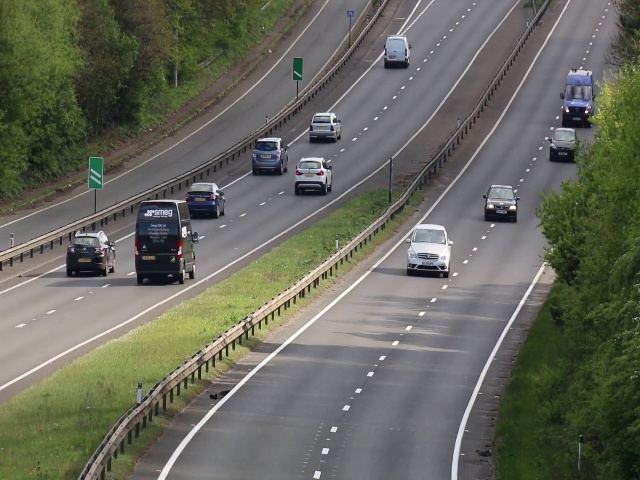car: (134, 201, 195, 282), (64, 231, 115, 279), (404, 225, 451, 276), (561, 72, 595, 125), (184, 181, 226, 218), (294, 157, 332, 195), (485, 182, 518, 222), (251, 138, 287, 174), (548, 128, 580, 161), (383, 34, 411, 68), (309, 112, 341, 141)
